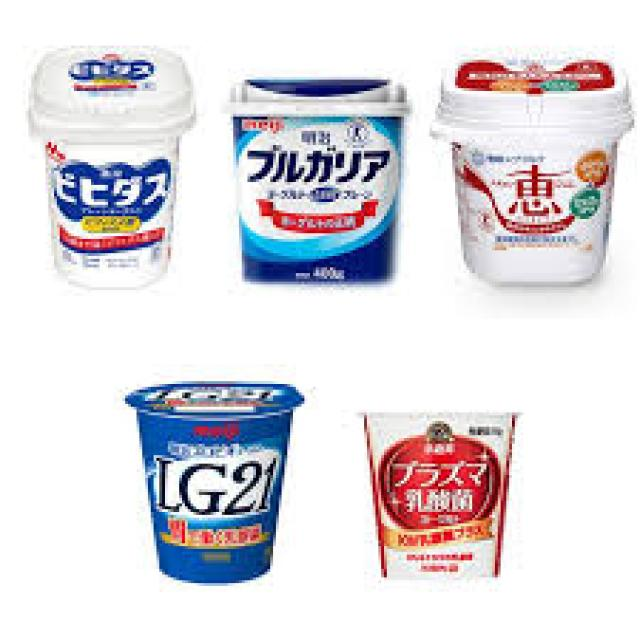plastic: (424, 57, 631, 281), (26, 46, 194, 285), (219, 74, 410, 282), (123, 381, 302, 578), (353, 407, 518, 580), (427, 54, 632, 137), (23, 43, 193, 139), (222, 74, 409, 117)
